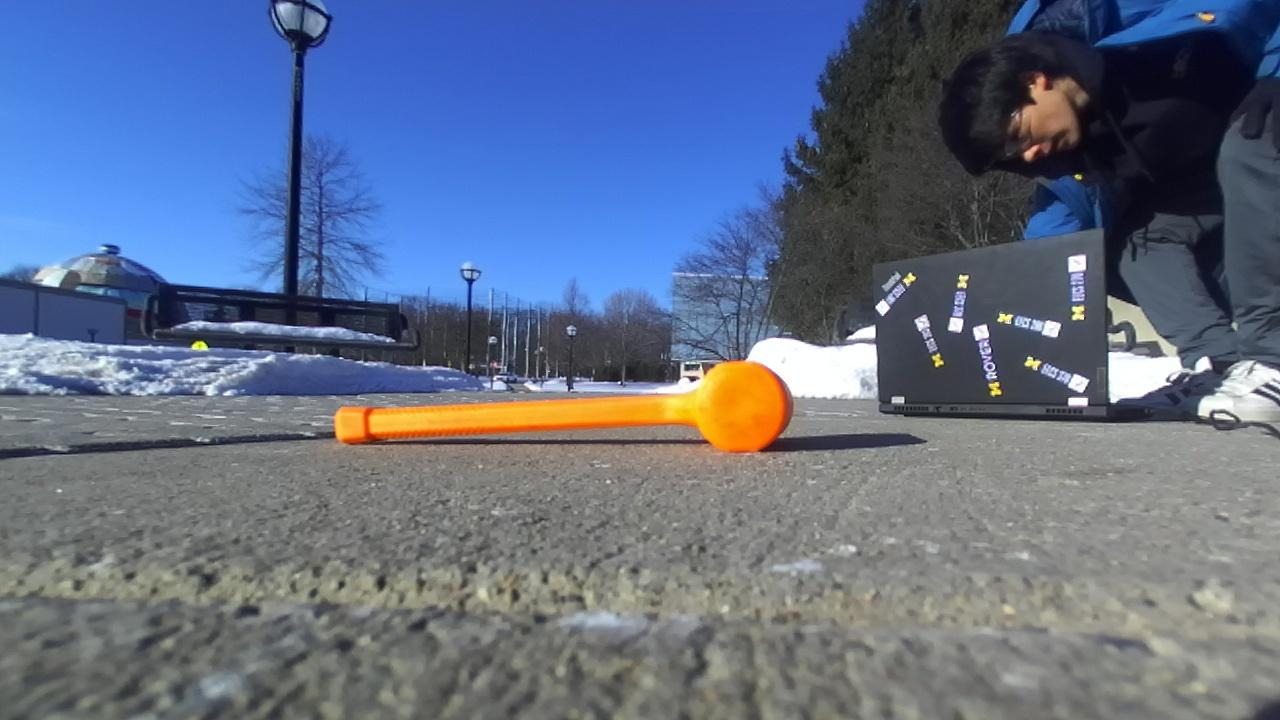mallet: (334, 361, 792, 451)
